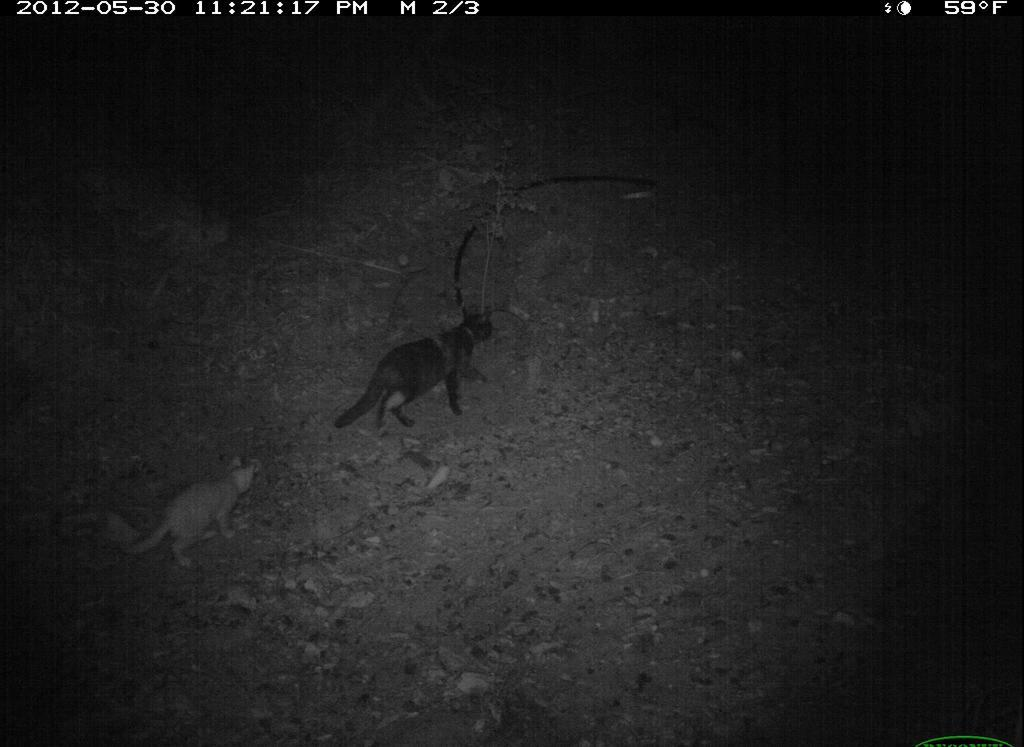cat: (336, 295, 521, 455), (123, 445, 273, 579)
